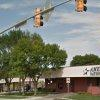traffic lights: (34, 7, 44, 27), (73, 0, 89, 11)
